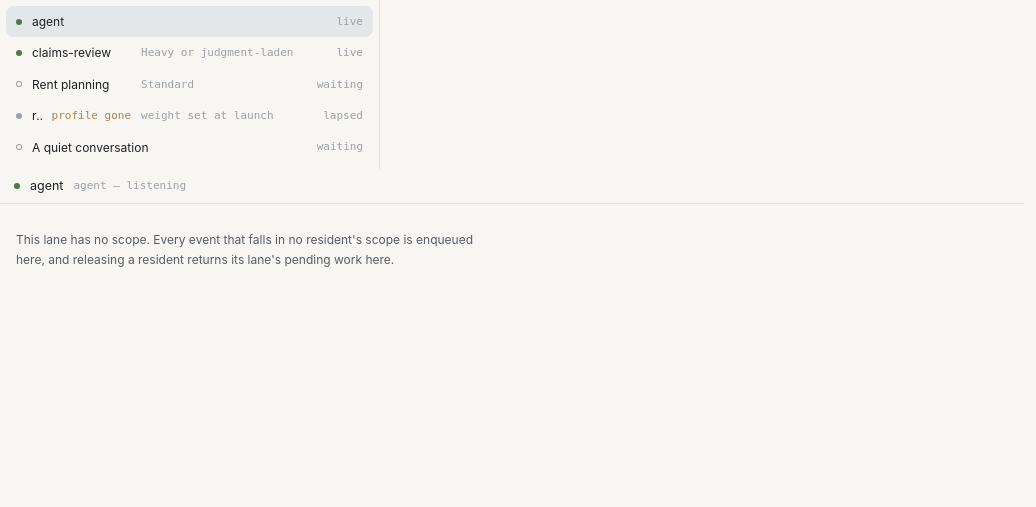
Scenario: the scope pane › reports a released lane as news rather than as a failure
Click the button "researcher profile gone weight set at launch lapsed": (190, 116) [6,100,373,132]
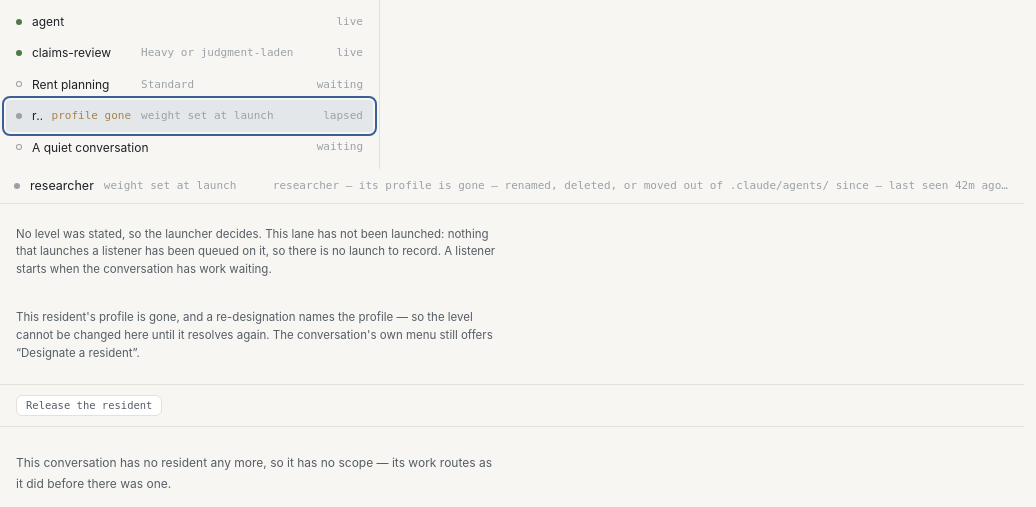
Now the text "This conversation has no resident any more, so it has no scope — its work routes as it did before there was one." is shown, box [16,455,492,491]
